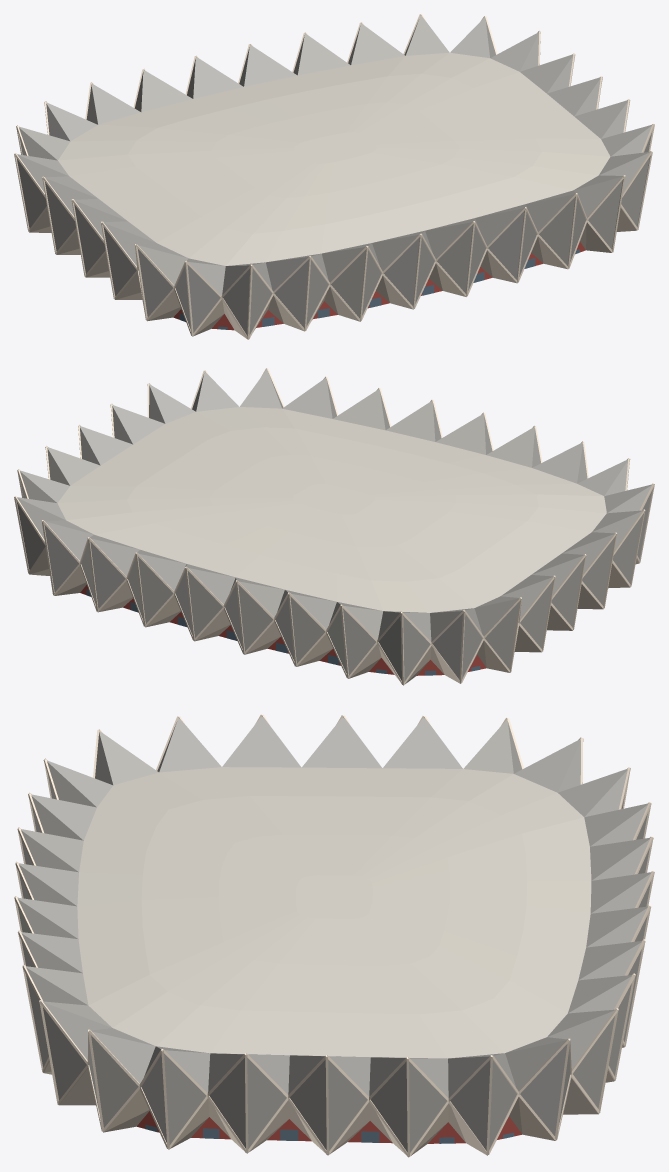
The model's file is baku-crystal-hall.glb.
3 views of the same model, one above another, from view 1: azimuth 30°, elevation 25°; view 2: azimuth 150°, elevation 25°; view 3: azimuth 270°, elevation 25° (orthographic). The views are drawn at different scales.
Visible parts, largest first — view 1: Baku Crystal Hall; view 2: Baku Crystal Hall; view 3: Baku Crystal Hall.
Boxes of the visible parts, x1=… form: Baku Crystal Hall: x1=14, y1=14, x2=654, y2=339; Baku Crystal Hall: x1=14, y1=368, x2=654, y2=685; Baku Crystal Hall: x1=14, y1=714, x2=654, y2=1157.
Bounding box in the file's own units: 185 × 27.18 × 146.
